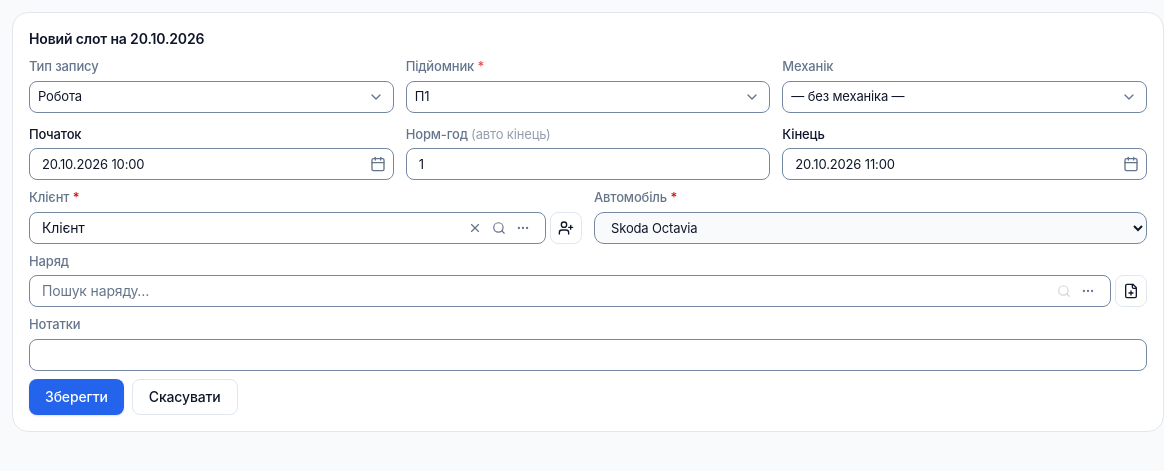
CalendarSlotModal — поле «Механік» (BR-CAL-012) › зміна підйомника скидає механіка, не закріпленого за новим; закріпленого — лишає
Select "Коваль Петро" in the dropdown labelled "Механік": (965, 96) [782,80,1147,112]
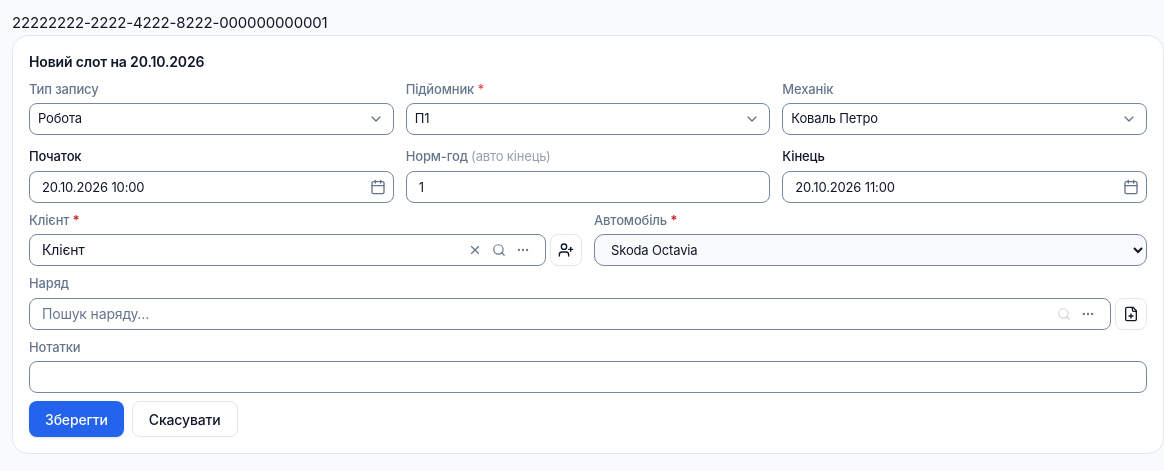
// П3: Коваль закріплений і там — лишається.
Select "П3" in the dropdown labelled "Підйомник *": (588, 119) [406,103,770,135]
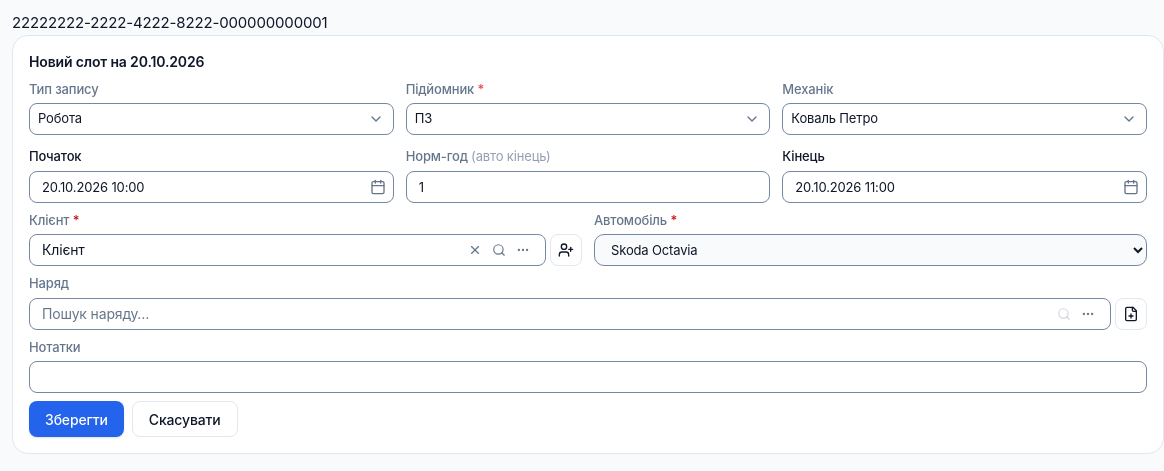
// П2: за ним нікого — механіка скинуто.
Select "П2" in the dropdown labelled "Підйомник *": (588, 119) [406,103,770,135]
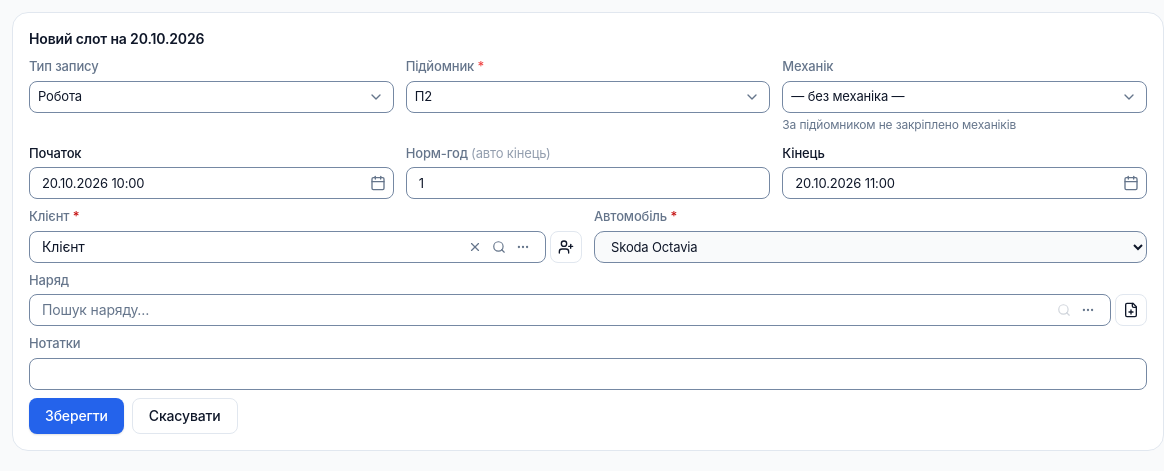
// Підйомник прибрали — поле недоступне, механіка немає.
Select "П1" in the dropdown labelled "Підйомник *": (588, 96) [406,80,770,112]
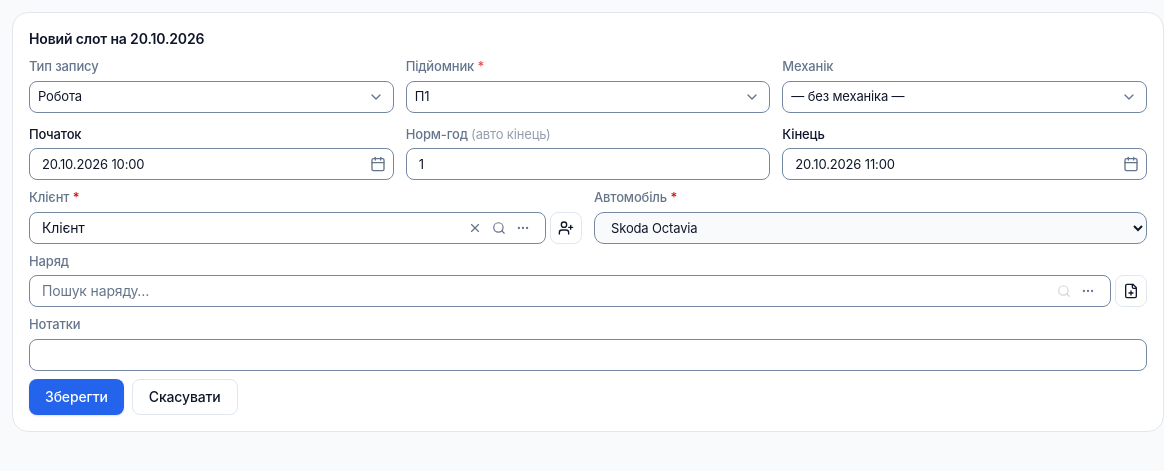
Select "Шевчук Олена" in the dropdown labelled "Механік": (965, 96) [782,80,1147,112]
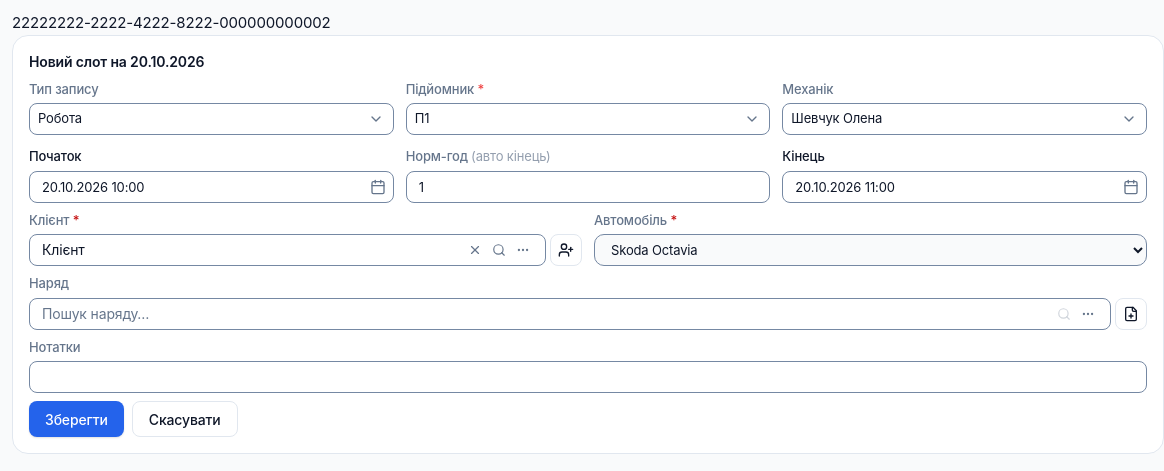
Select "— оберіть підйомник —" in the dropdown labelled "Підйомник *": (588, 119) [406,103,770,135]
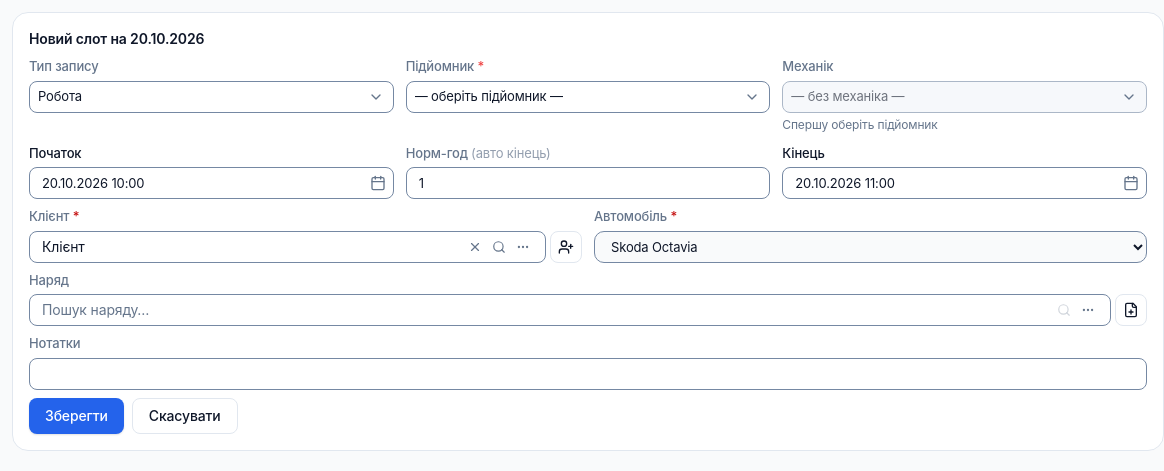
Now the dropdown labelled "Механік" is disabled, box [782,80,1147,112]
